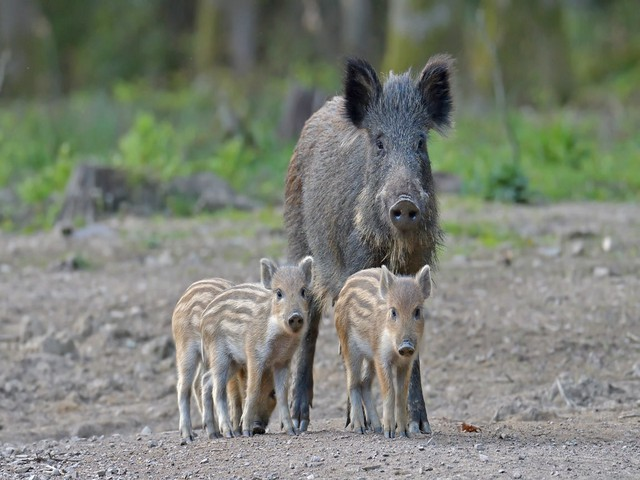Pig: (292, 49, 476, 437), (172, 267, 320, 434)
